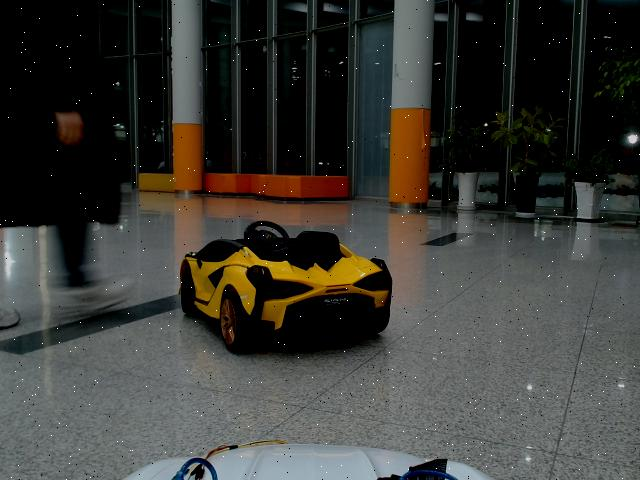car: (179, 222, 393, 353)
